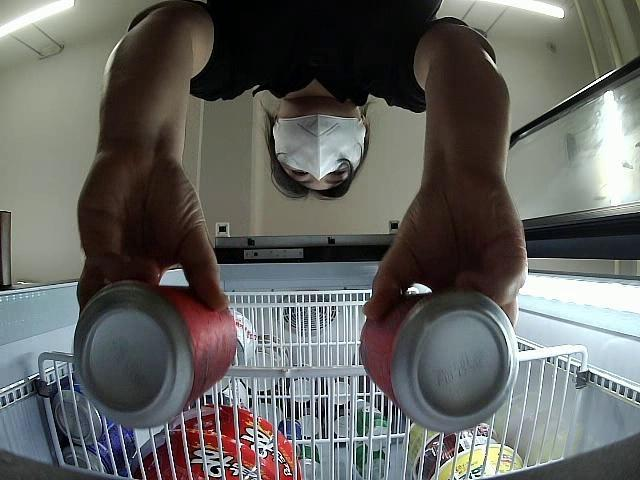11_cocaColaZero: (74, 280, 238, 429), (358, 288, 518, 429)
